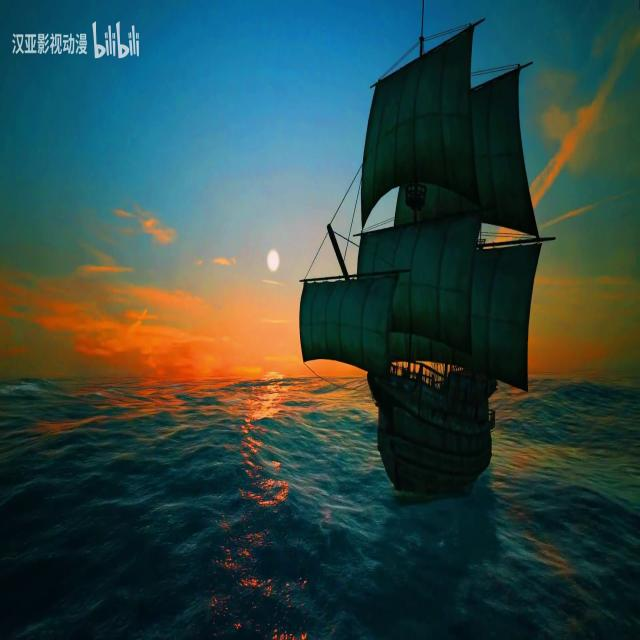sailboat: (290, 6, 539, 491)
